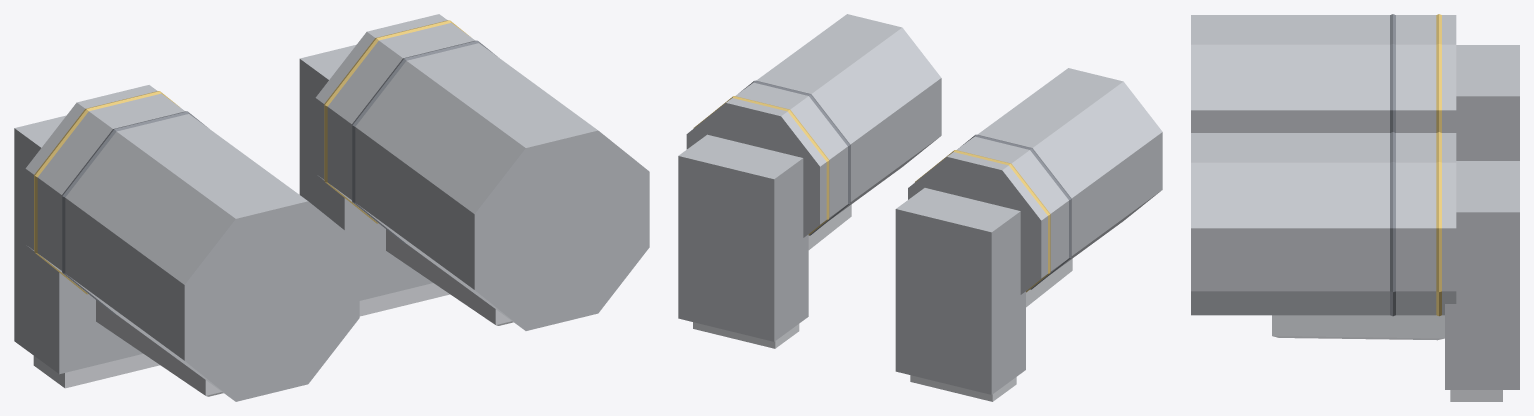
File: boots_plated.glb
3 views of the same model, side by side, from view 1: azimuth 30°, elevation 25°; view 2: azimuth 150°, elevation 25°; view 3: azimuth 270°, elevation 25° (orthographic). The views are drawn at different scales.
Parts seen in each view (by area): view 1: LowerLegR, LowerLegL, FootR, FootL; view 2: LowerLegR, LowerLegL, FootL, FootR; view 3: LowerLegL, LowerLegR, FootL, FootR.
Part boxes in pixels (x1,y1,x2,y2): LowerLegR: [25, 85, 359, 401]; LowerLegL: [315, 14, 649, 330]; FootR: [14, 115, 159, 388]; FootL: [299, 44, 449, 316]; LowerLegR: [908, 68, 1162, 307]; LowerLegL: [686, 14, 941, 249]; FootL: [678, 134, 808, 348]; FootR: [895, 188, 1025, 401]; LowerLegL: [1191, 132, 1456, 340]; LowerLegR: [1191, 14, 1456, 132]; FootL: [1445, 161, 1519, 401]; FootR: [1456, 45, 1519, 160].
Bounding box in the file's own units: 0.7796 × 0.4478 × 0.57.
